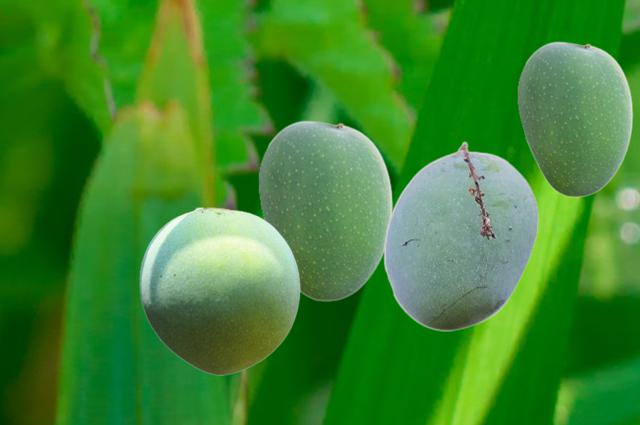green_mango: (383, 141, 538, 330), (139, 206, 299, 374), (258, 120, 392, 300), (517, 41, 632, 196)
